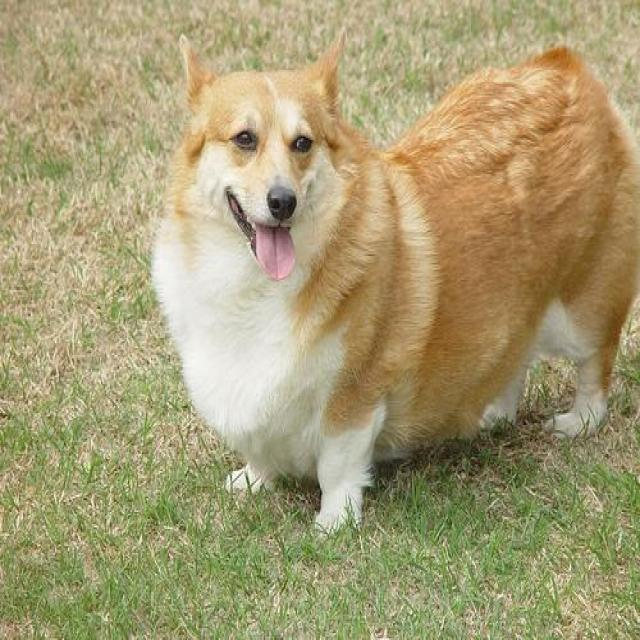good: (160, 19, 640, 531)
